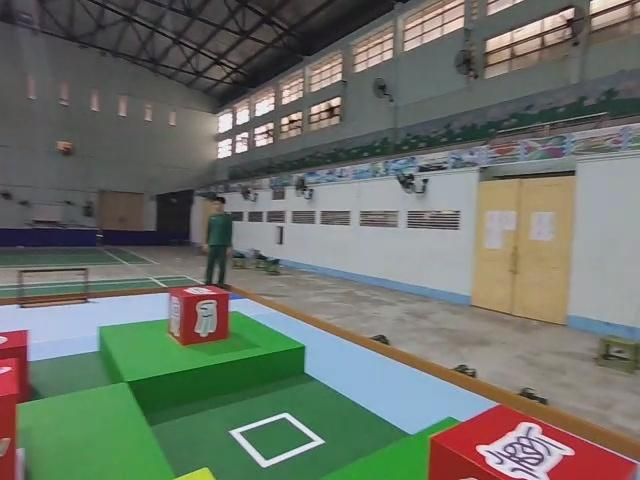R2 Fake: (424, 400, 640, 480), (167, 284, 231, 347)
